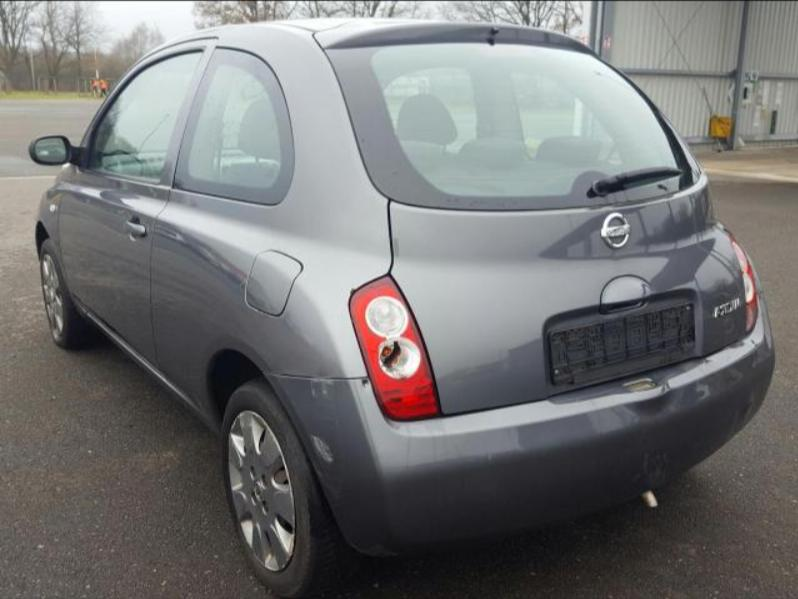Broken part: (349, 274, 444, 421), (264, 371, 370, 382)
Missing part: (554, 302, 694, 383)
Scratch: (311, 434, 334, 464), (308, 379, 334, 398)
